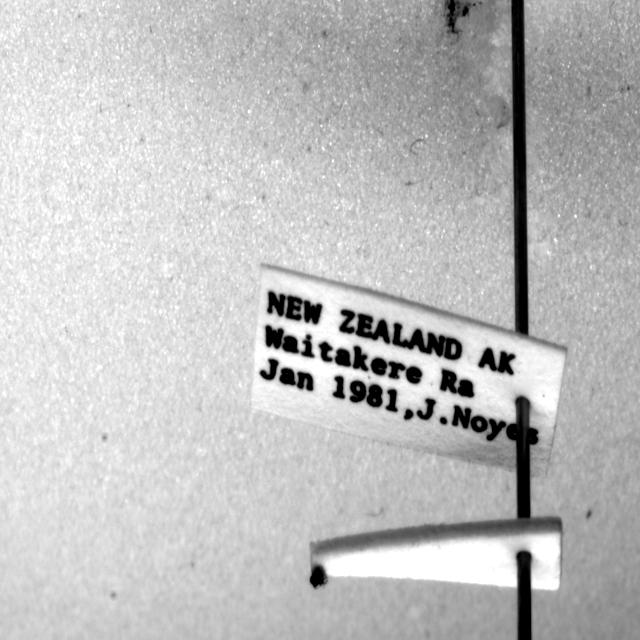typed_label: (251, 266, 566, 476)
